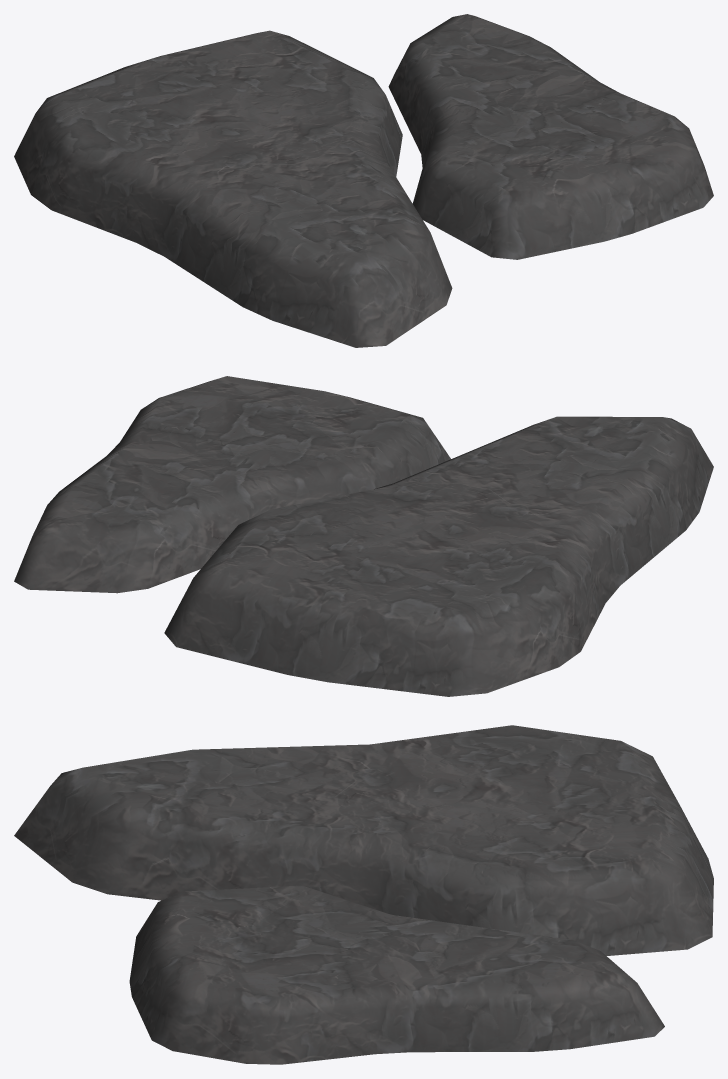
The model's file is Stone_floor.fbx.
3 renders of one model, top to bottom at view 1: azimuth 30°, elevation 25°; view 2: azimuth 150°, elevation 25°; view 3: azimuth 270°, elevation 25°, orthographic. The views are drawn at different scales.
Visible parts, largest first — view 1: Stone_1; view 2: Stone_1; view 3: Stone_1.
Part boxes in pixels (x1,y1,x2,y2): Stone_1: (14, 14, 713, 347); Stone_1: (14, 376, 713, 696); Stone_1: (14, 725, 713, 1064).
Bounding box in the file's own units: 75.27 × 8.26 × 77.01.
1 material, 1 textured.
